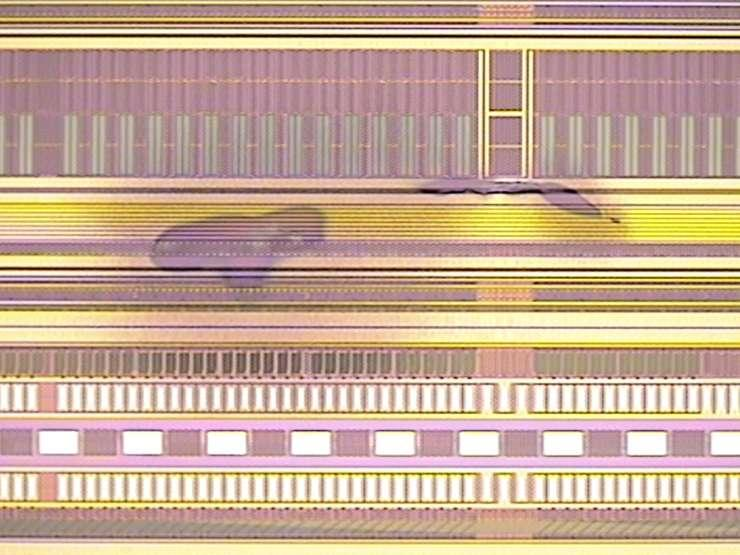COATING BAD: (149, 170, 623, 313)
